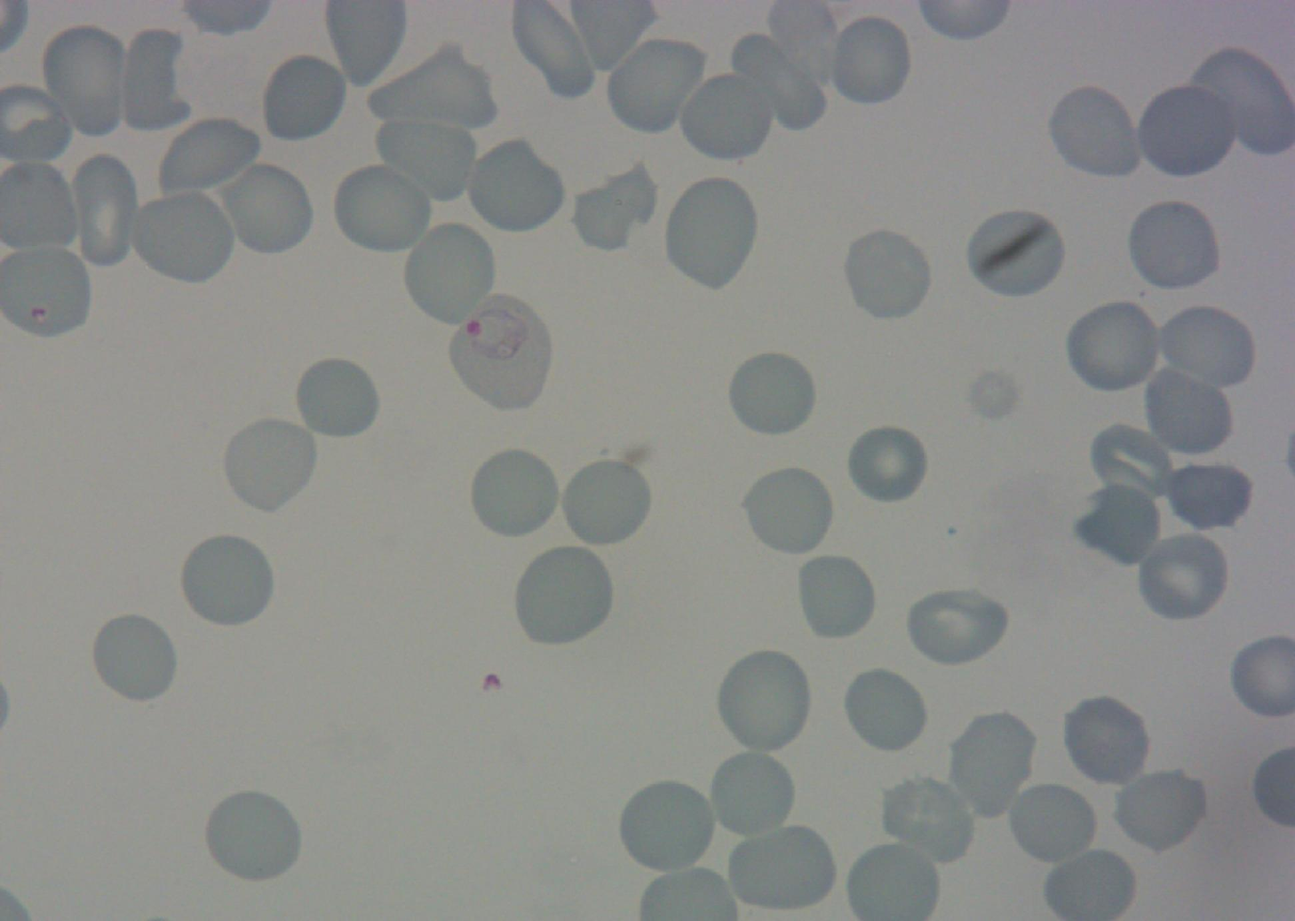Infected: (446, 298, 552, 410)
Uninfected: (368, 43, 500, 131), (664, 174, 760, 290), (512, 542, 615, 647), (715, 647, 813, 756), (130, 188, 238, 285), (40, 27, 133, 136), (605, 36, 706, 136), (465, 138, 568, 236), (729, 822, 839, 913), (202, 788, 304, 885), (1136, 81, 1238, 178), (401, 223, 498, 325), (616, 779, 719, 874), (330, 160, 434, 254), (1063, 298, 1163, 395), (177, 532, 277, 629), (730, 31, 825, 133), (220, 414, 318, 511), (217, 161, 316, 257), (947, 713, 1039, 816), (1124, 198, 1222, 293), (1156, 303, 1258, 394), (740, 464, 836, 559), (1046, 85, 1142, 180), (677, 71, 778, 161), (1135, 529, 1231, 623), (466, 446, 563, 539), (840, 227, 934, 322), (558, 457, 653, 550), (967, 212, 1068, 299), (1141, 364, 1234, 457), (723, 349, 819, 439), (903, 585, 1008, 667), (1060, 694, 1152, 787), (823, 13, 913, 108), (510, 1, 596, 100), (89, 611, 181, 703), (161, 116, 264, 198), (706, 749, 797, 841), (258, 52, 348, 145), (1112, 767, 1208, 854), (879, 776, 975, 863), (111, 26, 190, 131), (375, 117, 472, 202), (69, 156, 141, 270), (840, 666, 930, 755), (1007, 780, 1100, 866), (292, 355, 382, 442), (793, 550, 879, 641), (572, 164, 659, 251), (1086, 422, 1179, 503), (844, 422, 931, 505), (1162, 459, 1254, 532), (1079, 485, 1165, 563)
